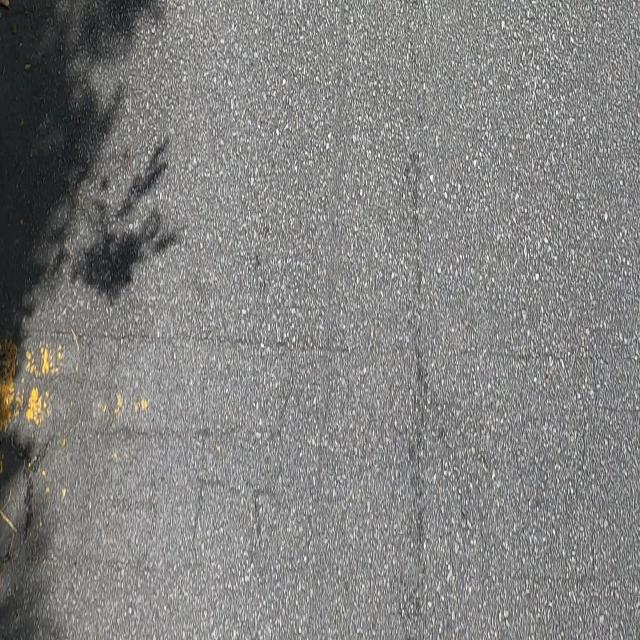Retak-Buaya: (89, 341, 302, 568)
